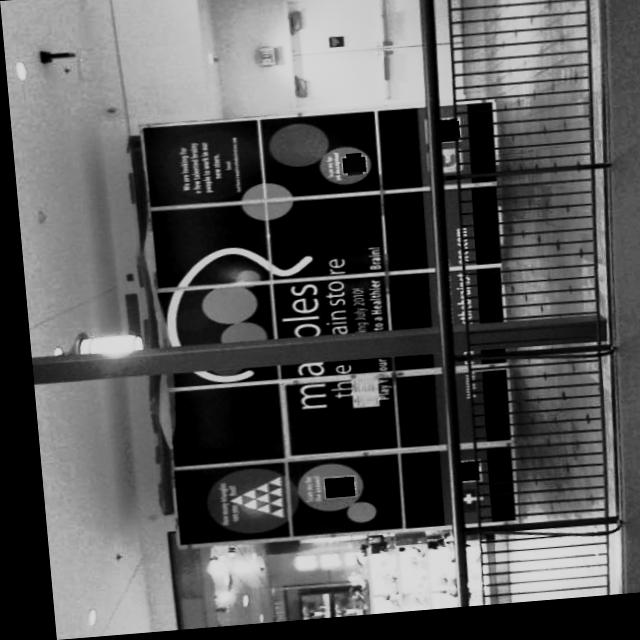qr_code: (315, 481, 345, 502), (435, 127, 456, 148), (341, 160, 361, 180), (450, 468, 470, 487)
